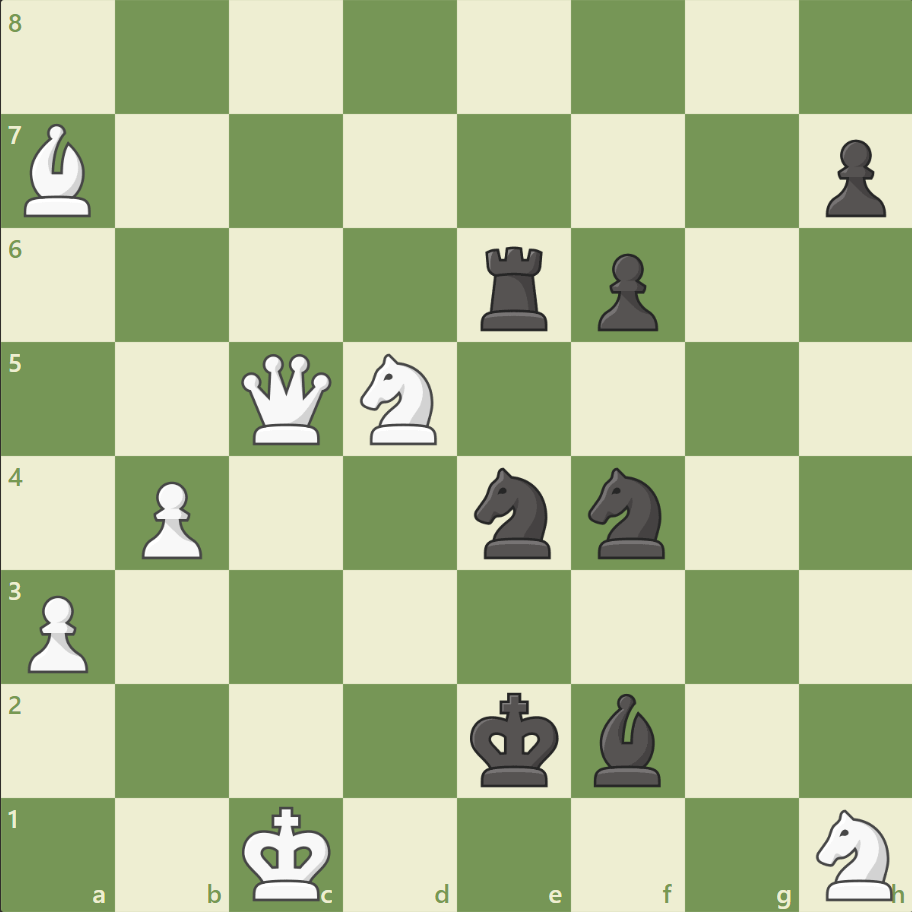B: (17, 120, 101, 222)
K: (238, 798, 338, 906)
N: (351, 348, 449, 450), (806, 802, 903, 904)
P: (133, 473, 208, 564), (20, 586, 95, 677)
Q: (237, 349, 336, 449)
b: (585, 687, 669, 790)
k: (465, 685, 565, 793)
n: (465, 461, 562, 564), (579, 461, 676, 564)
p: (815, 132, 889, 223), (588, 246, 662, 337)
r: (473, 239, 556, 336)
